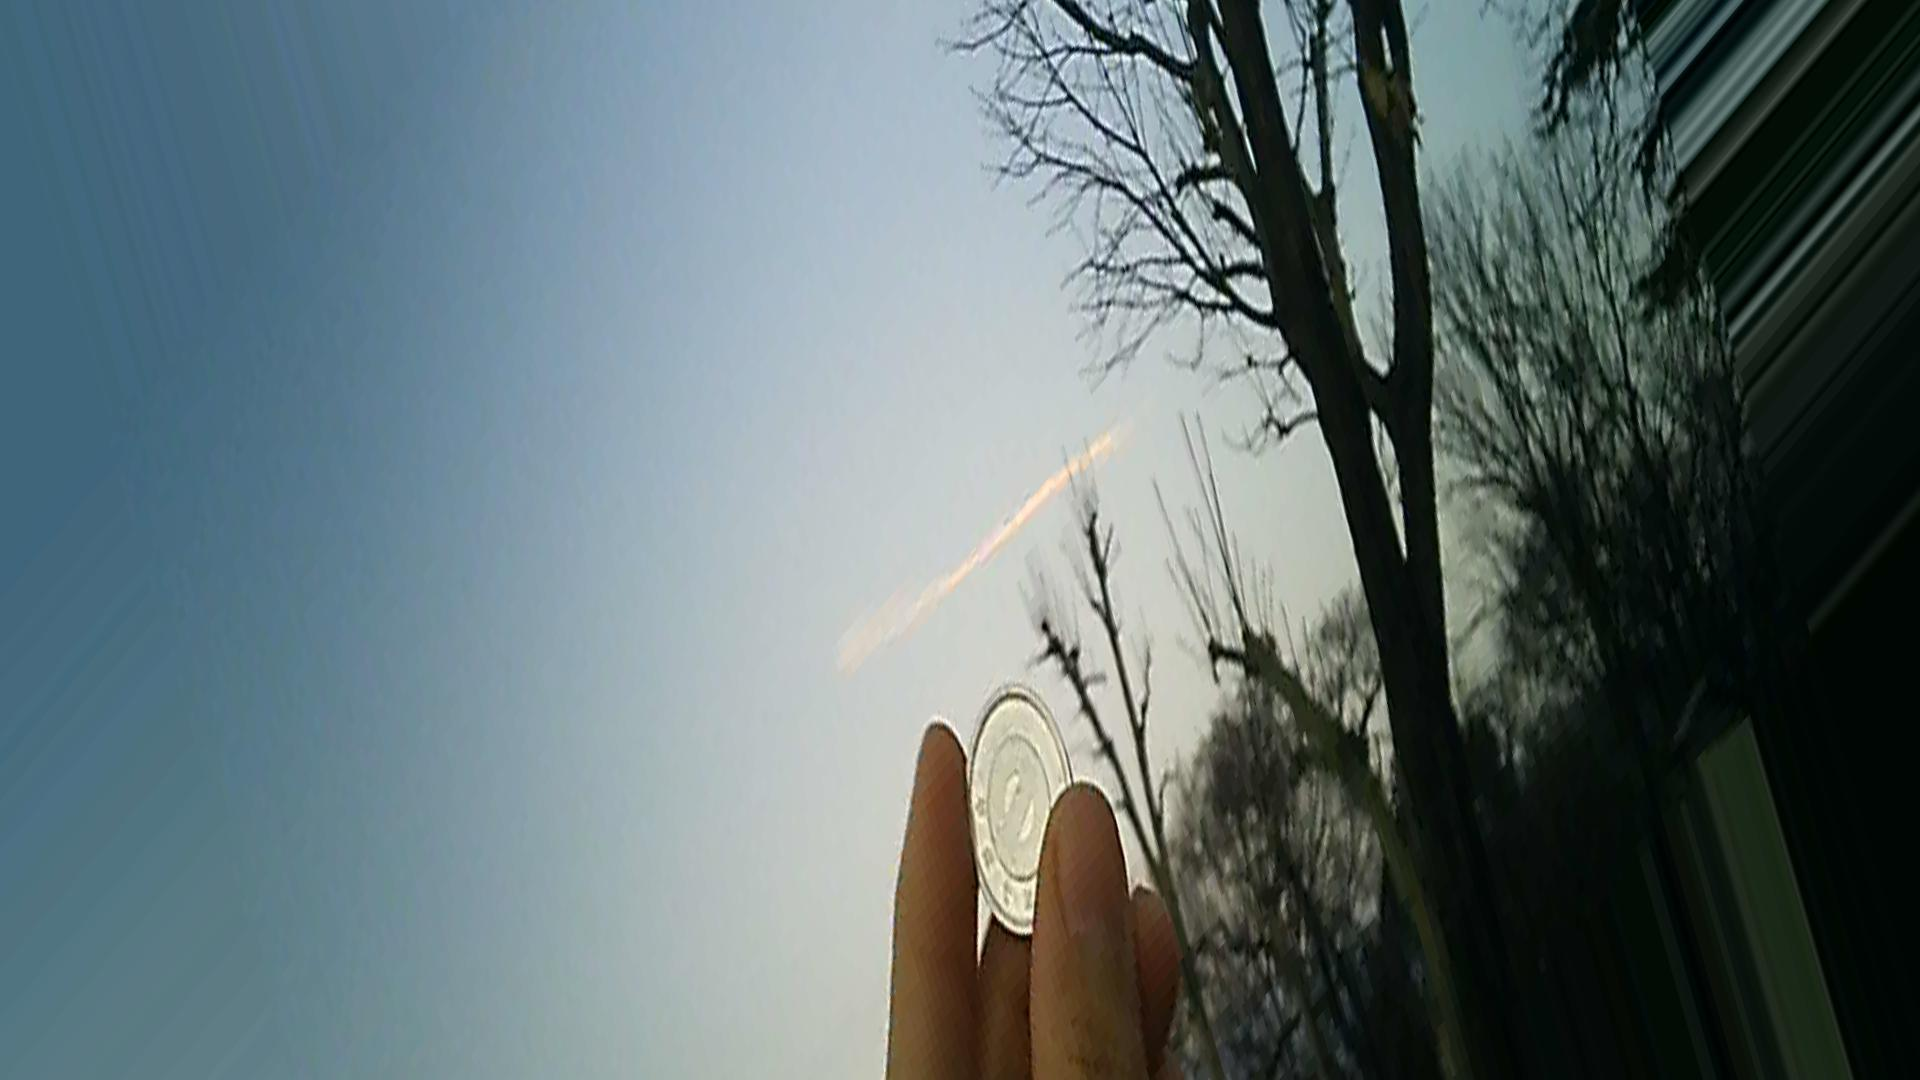1 Yen: (930, 676, 1097, 952)
